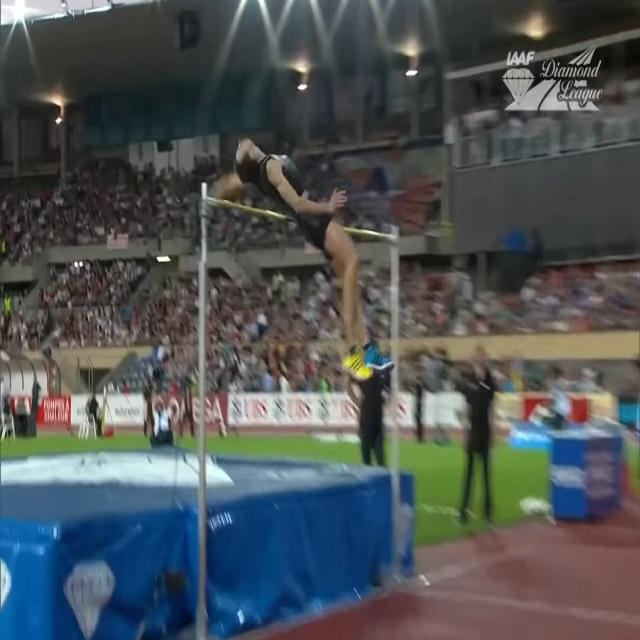jump: (207, 138, 395, 385)
